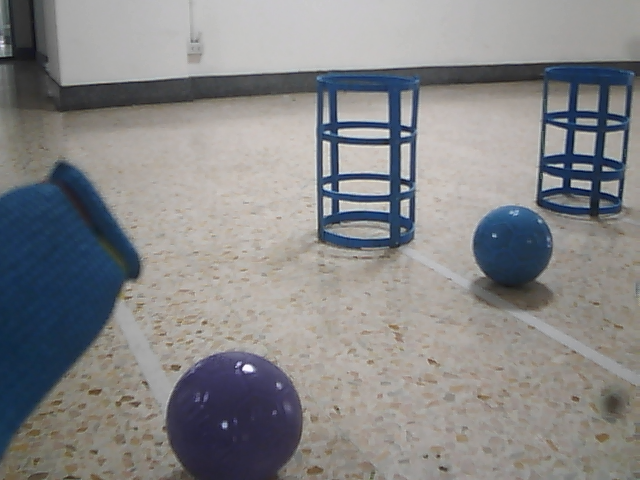Blue ball: (472, 204, 555, 290)
Cyro: (311, 70, 423, 251), (534, 64, 637, 216)
Purple ball: (165, 350, 305, 480)
